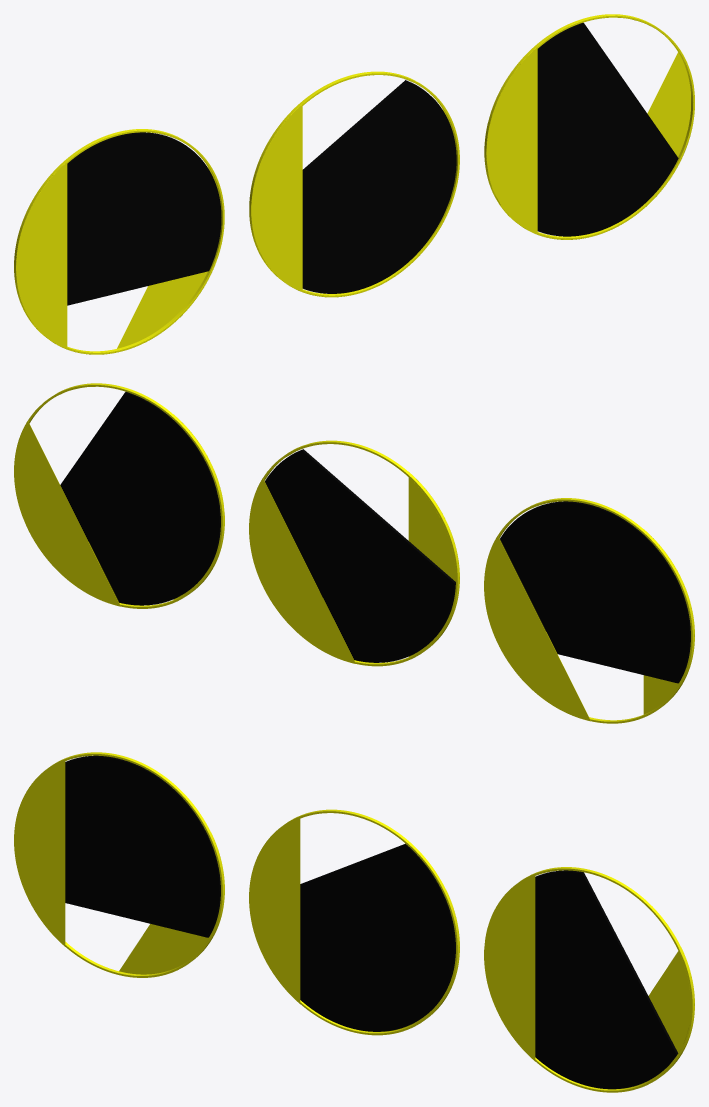
File: designconnected-revolution-mirror-9044.optimized.glb
3 views of the same model, one above another, from view 1: azimuth 30°, elevation 25°; view 2: azimuth 150°, elevation 25°; view 3: azimuth 330°, elevation 25° (orthographic).
Visible parts, largest first — view 1: Edizione_Limitata_Revolution_01; view 2: Edizione_Limitata_Revolution_01; view 3: Edizione_Limitata_Revolution_01.
Part boxes in pixels (x1,y1,x2,y2): Edizione_Limitata_Revolution_01: (14,14,694,354); Edizione_Limitata_Revolution_01: (14,383,694,723); Edizione_Limitata_Revolution_01: (14,752,694,1092).
Size of the model in its own units: 1.73 by 0.533 by 0.00994.
